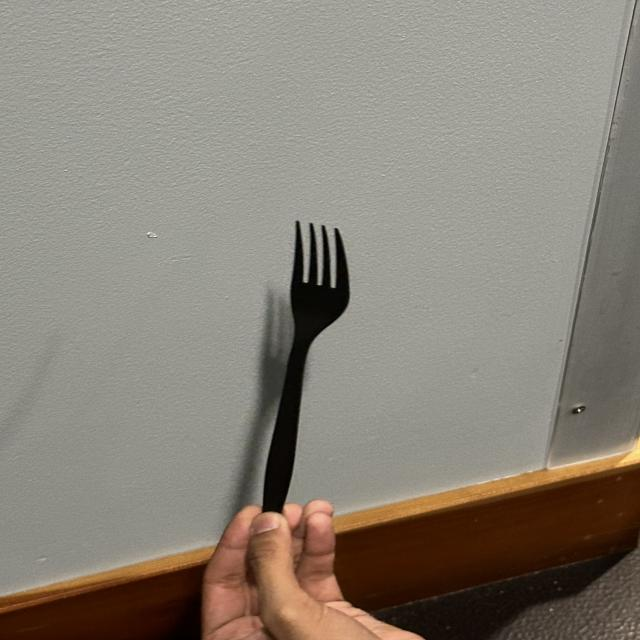fork: (254, 178, 358, 553)
